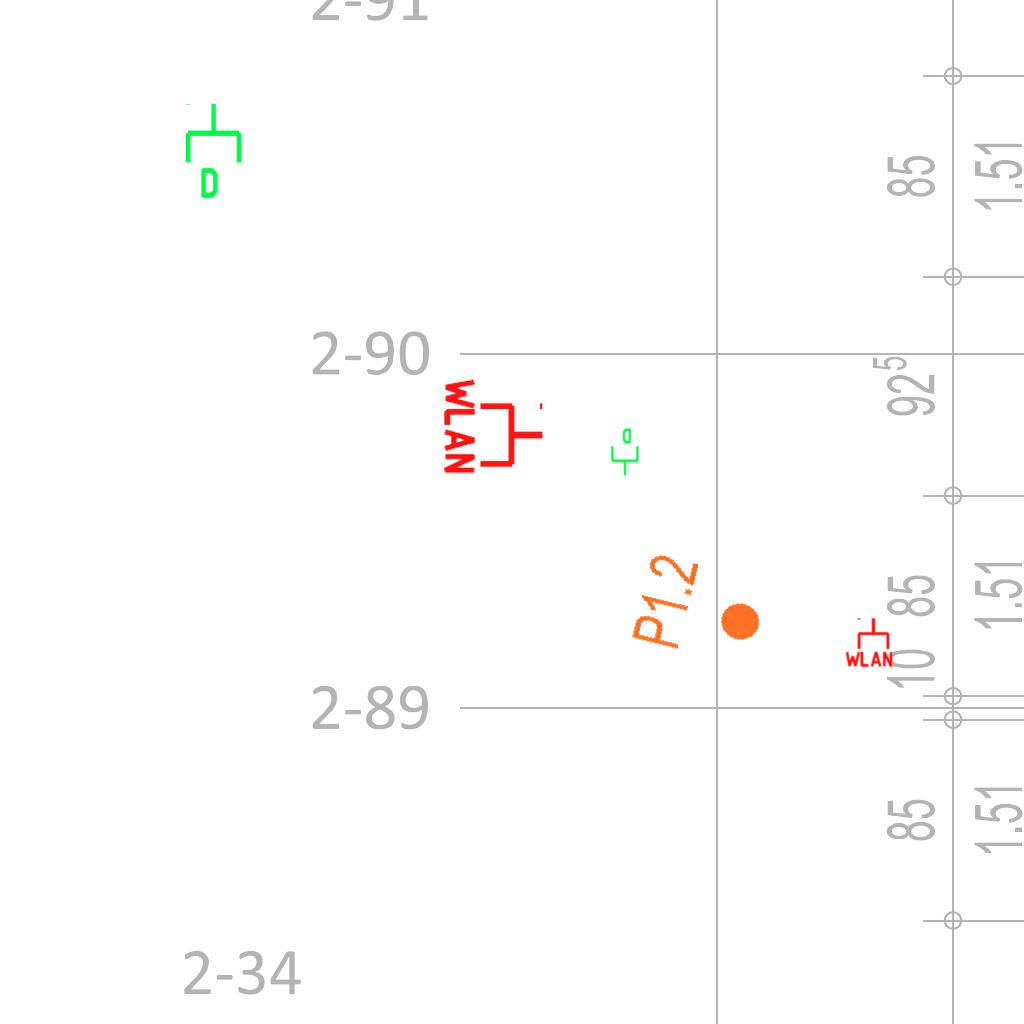Datenanschluss_einfach: (181, 101, 250, 201), (607, 427, 641, 477)
Downlight_LED_Einbauleuchten_Flur: (627, 549, 774, 671)
WLAN: (442, 374, 547, 478), (843, 616, 895, 668)
